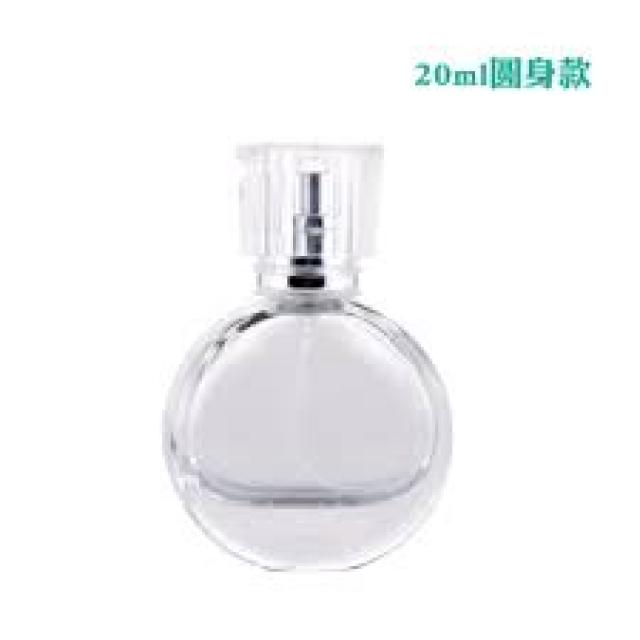Anorganik: (162, 290, 450, 566), (234, 142, 378, 296), (293, 171, 321, 253)
